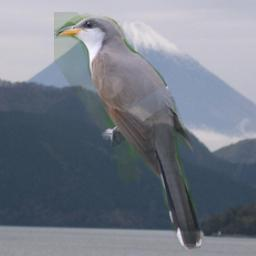Cuckoo: (54, 12, 208, 254)
